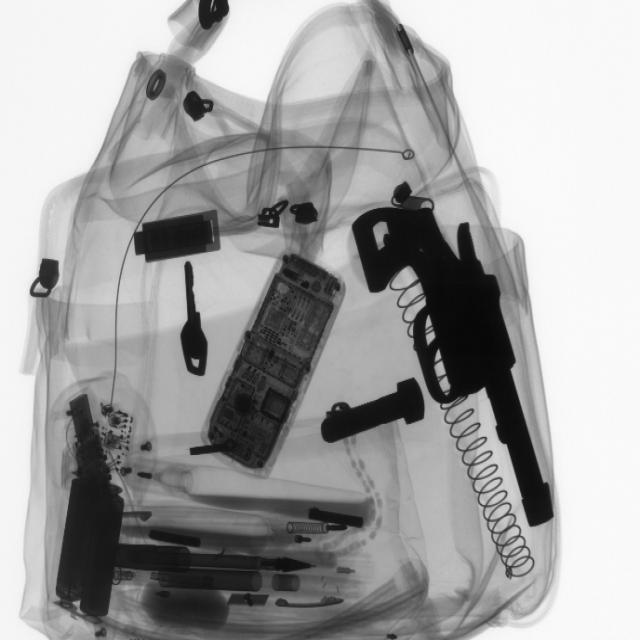GUN: (353, 196, 558, 533)
